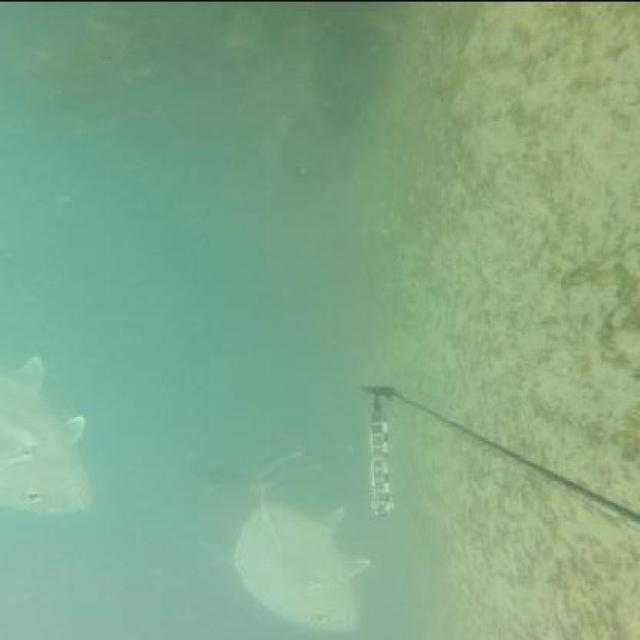Caranx: (190, 451, 372, 632), (0, 351, 100, 517)
